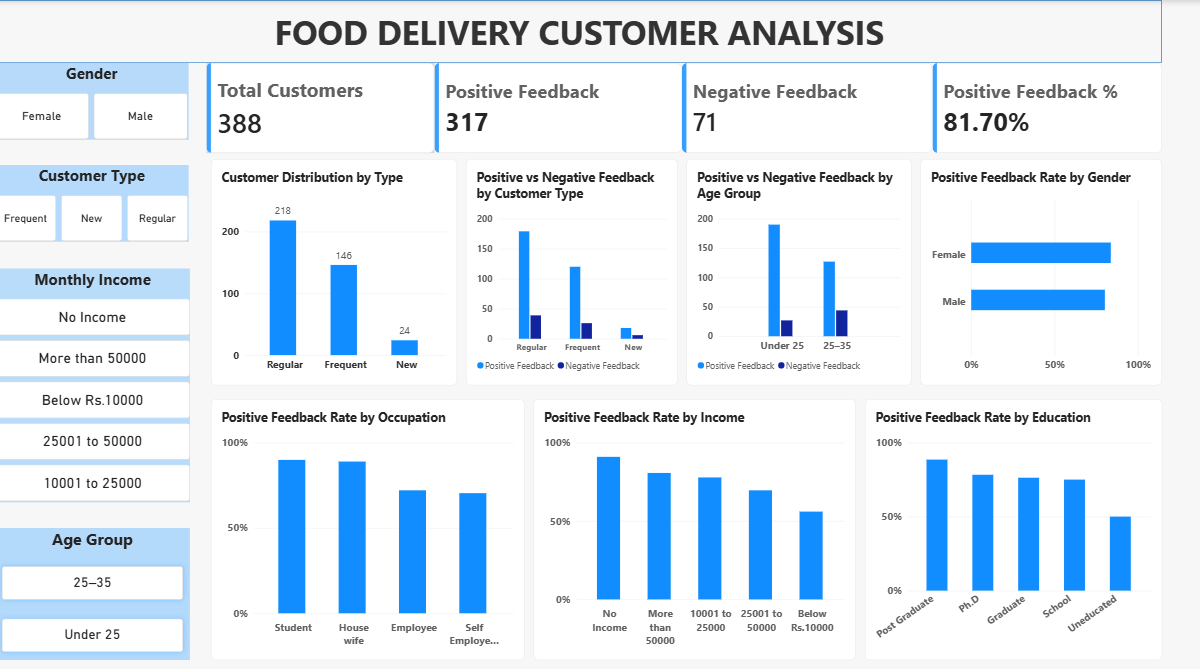

The dashboard page shown, as its layout file describes it:
{"tool":"powerbi","page":{"name":"Page 1","canvas":[1920,1080],"ordinal":0},"visuals":[{"type":"cardVisual","fields":{"Data":["public food_delivery.Total Customers"]},"box":[336.4,100.2,362.7,143.2],"z":0},{"type":"cardVisual","fields":{"Data":["public food_delivery.Positive Feedback %"]},"box":[1491.2,100.2,365,143.2],"z":1000},{"type":"cardVisual","fields":{"Data":["public food_delivery.Negative Feedback"]},"box":[1092.7,100.2,398.4,143.2],"z":2000},{"type":"cardVisual","fields":{"Data":["public food_delivery.Positive Feedback"]},"box":[699.1,100.2,393.7,143.2],"z":3000},{"type":"clusteredColumnChart","title":"Customer Distribution by Type","fields":{"Category":["public food_delivery.customer_type"],"Y":["public food_delivery.Total Customers"]},"box":[343.6,252.9,391.3,360.3],"z":4000},{"type":"clusteredColumnChart","title":"Positive vs Negative Feedback by Customer Type","fields":{"Category":["public food_delivery.customer_type"],"Y":["public food_delivery.Positive Feedback","public food_delivery.Negative Feedback"]},"box":[749.2,252.9,336.4,360.3],"z":5000},{"type":"clusteredBarChart","title":"Positive Feedback Rate by Gender","fields":{"Category":["public food_delivery.gender"],"Y":["public food_delivery.Positive Feedback %"]},"box":[1472.1,252.9,384.1,360.3],"z":6000},{"type":"clusteredColumnChart","title":"Positive Feedback Rate by Occupation","fields":{"Category":["public food_delivery.occupation"],"Y":["public food_delivery.Positive Feedback %"]},"box":[343.6,634.7,498.7,415.1],"z":7000},{"type":"clusteredColumnChart","title":"Positive Feedback Rate by Income","fields":{"Category":["public food_delivery.monthly_income"],"Y":["public food_delivery.Positive Feedback %"]},"box":[856.5,634.7,513,415.1],"z":8000},{"type":"clusteredColumnChart","title":"Positive Feedback Rate by Education","fields":{"Category":["public food_delivery.educational_qualifications"],"Y":["public food_delivery.Positive Feedback %"]},"box":[1383.8,634.7,472.4,415.1],"z":9000},{"type":"advancedSlicerVisual","title":"             Gender","fields":{"Values":["public food_delivery.gender"]},"box":[0,100.2,307.8,121.7],"z":10000},{"type":"advancedSlicerVisual","title":"Customer Type","fields":{"Values":["public food_delivery.customer_type"]},"box":[0,263.2,307.8,121.7],"z":11000},{"type":"advancedSlicerVisual","title":"Monthly Income","fields":{"Values":["public food_delivery.monthly_income"]},"box":[0,426.3,310.2,372.2],"z":12000},{"type":"clusteredColumnChart","title":"Positive vs Negative Feedback by Age Group","fields":{"Category":["public food_delivery.Age Group"],"Y":["public food_delivery.Positive Feedback","public food_delivery.Negative Feedback"]},"box":[1099.9,252.9,357.9,360.3],"z":13000},{"type":"shape","box":[2.4,0,1853.9,100.2],"z":14000},{"type":"advancedSlicerVisual","fields":{"Values":["public food_delivery.Age Group"]},"box":[0,839.8,310.2,210],"z":15000},{"type":"textbox","box":[100,100,300,300],"z":16000},{"type":"textbox","box":[100,100,300,300],"z":17000}]}

Visuals, with their boxes in screenshot pixels (x1, y1, x2, y2), scaled from the page's 1920x1080 canvas onto the 1200x669 screenshot:
cardVisual - public food_delivery.Total Customers: BBox(210, 62, 437, 151)
cardVisual - public food_delivery.Positive Feedback %: BBox(932, 62, 1160, 151)
cardVisual - public food_delivery.Negative Feedback: BBox(683, 62, 932, 151)
cardVisual - public food_delivery.Positive Feedback: BBox(437, 62, 683, 151)
"Customer Distribution by Type" clusteredColumnChart: BBox(215, 157, 459, 380)
"Positive vs Negative Feedback by Customer Type" clusteredColumnChart: BBox(468, 157, 678, 380)
"Positive Feedback Rate by Gender" clusteredBarChart: BBox(920, 157, 1160, 380)
"Positive Feedback Rate by Occupation" clusteredColumnChart: BBox(215, 393, 526, 650)
"Positive Feedback Rate by Income" clusteredColumnChart: BBox(535, 393, 856, 650)
"Positive Feedback Rate by Education" clusteredColumnChart: BBox(865, 393, 1160, 650)
"             Gender" advancedSlicerVisual: BBox(0, 62, 192, 137)
"Customer Type" advancedSlicerVisual: BBox(0, 163, 192, 238)
"Monthly Income" advancedSlicerVisual: BBox(0, 264, 194, 495)
"Positive vs Negative Feedback by Age Group" clusteredColumnChart: BBox(687, 157, 911, 380)
shape: BBox(2, 0, 1160, 62)
advancedSlicerVisual - public food_delivery.Age Group: BBox(0, 520, 194, 650)
textbox: BBox(62, 62, 250, 248)
textbox: BBox(62, 62, 250, 248)
